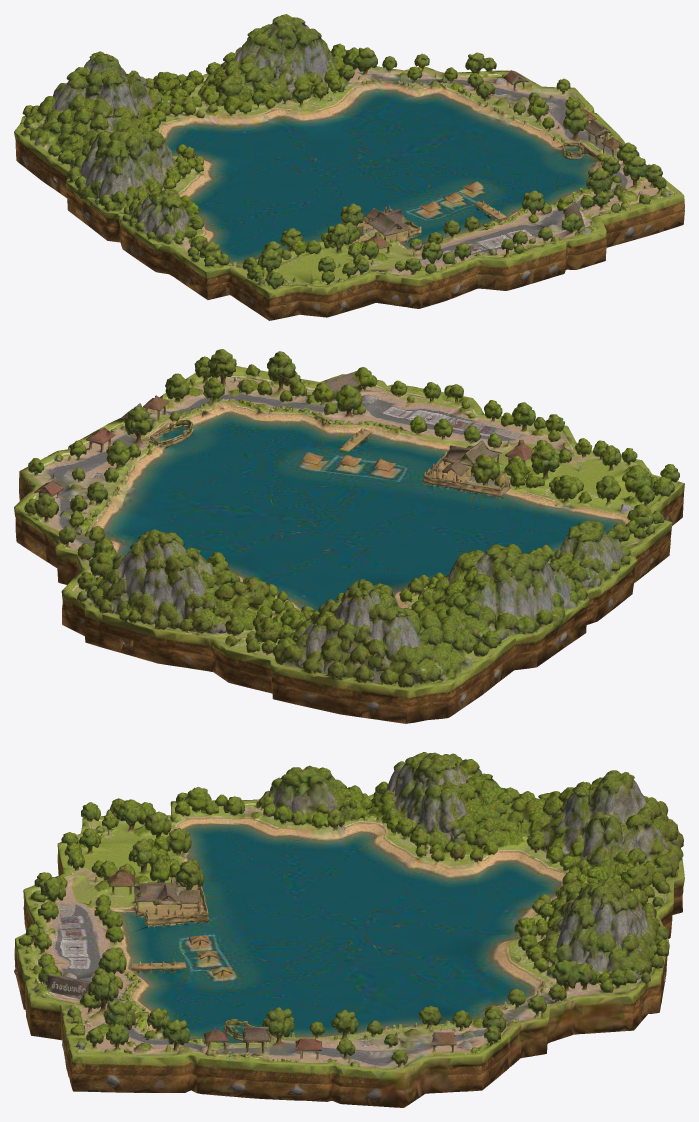
The model's file is ang-sap-lek.ar.glb.
3 views of the same model, one above another, from view 1: azimuth 30°, elevation 25°; view 2: azimuth 150°, elevation 25°; view 3: azimuth 270°, elevation 25° (orthographic). The views are drawn at different scales.
Size of the model in its own units: 0.3979 by 0.0736 by 0.4.
Materials: 1 (1 with a texture image).
